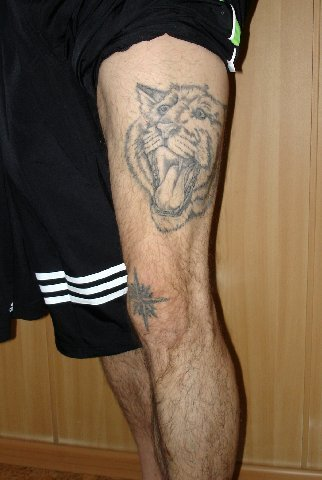tatu4_zvezda: (125, 266, 175, 335)
tatu5_tigr: (124, 79, 220, 234)
